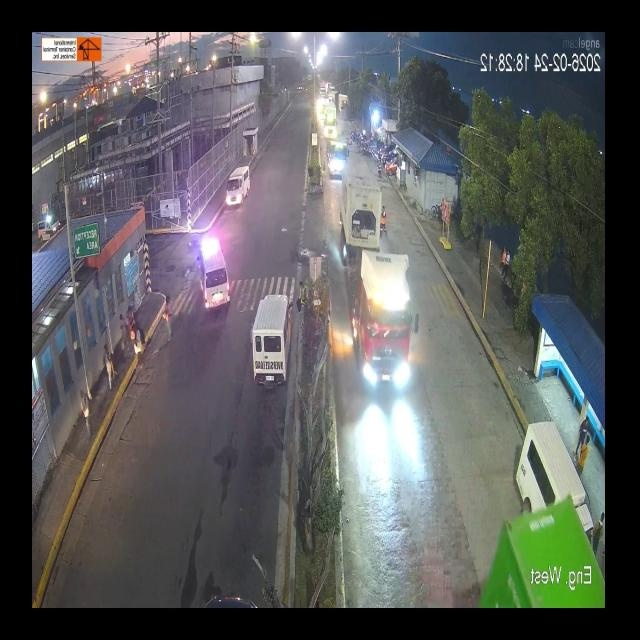car: (190, 223, 240, 323), (256, 294, 294, 389), (223, 164, 263, 214)
truck: (332, 153, 412, 405)
